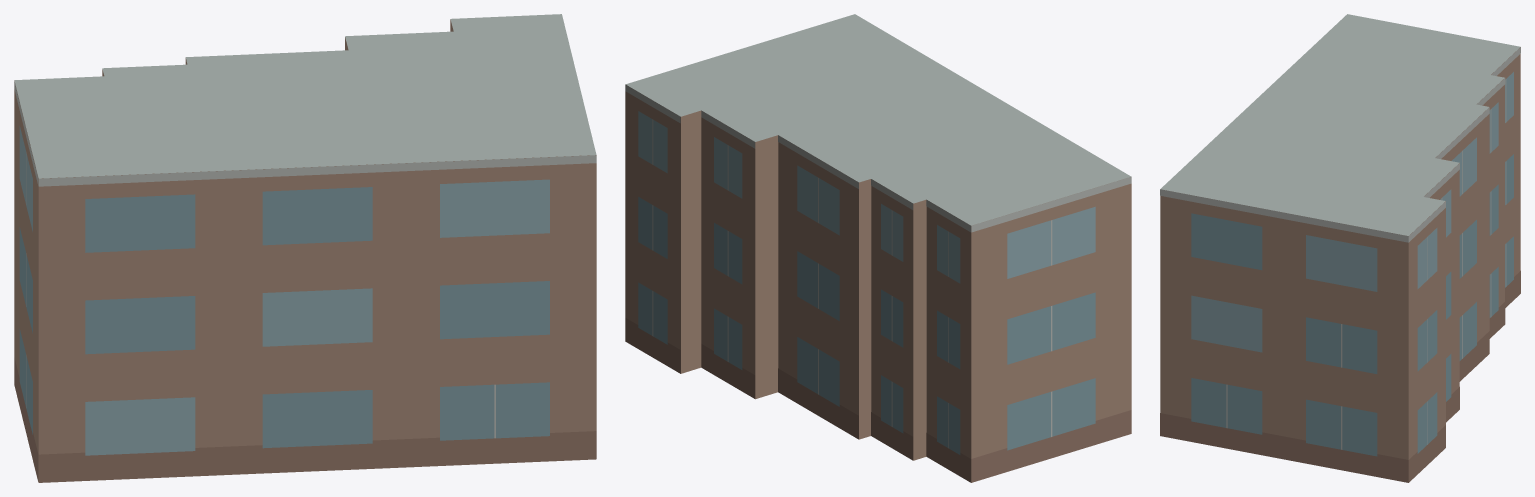
Rendered from survey-upis-32806228.glb.
The picture shows the model from 3 angles, left to right: view 1: azimuth 30°, elevation 25°; view 2: azimuth 150°, elevation 25°; view 3: azimuth 270°, elevation 25°; orthographic projection. The views are drawn at different scales.
Parts seen in each view (by area): view 1: survey-upis-32806228.tmp; view 2: survey-upis-32806228.tmp; view 3: survey-upis-32806228.tmp.
Part boxes in pixels (x1=…): survey-upis-32806228.tmp: x1=14, y1=14, x2=596, y2=482; survey-upis-32806228.tmp: x1=625, y1=14, x2=1131, y2=482; survey-upis-32806228.tmp: x1=1160, y1=14, x2=1520, y2=482.
Bounding box in the file's own units: 17.67 × 9.15 × 12.13.
